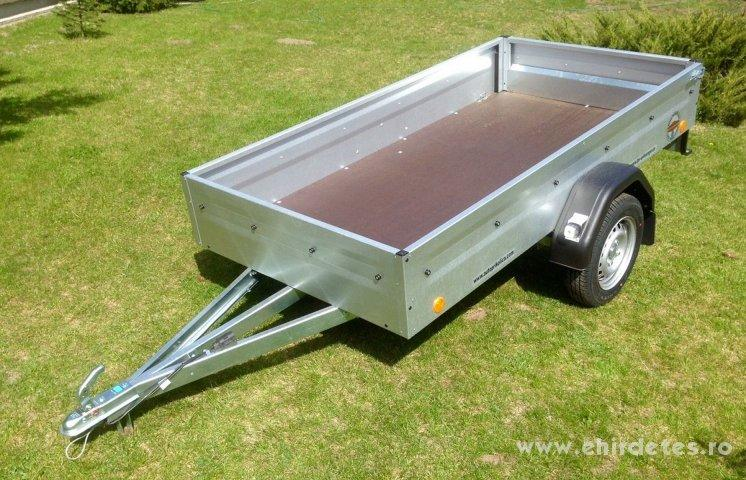trailer: (180, 32, 707, 339)
